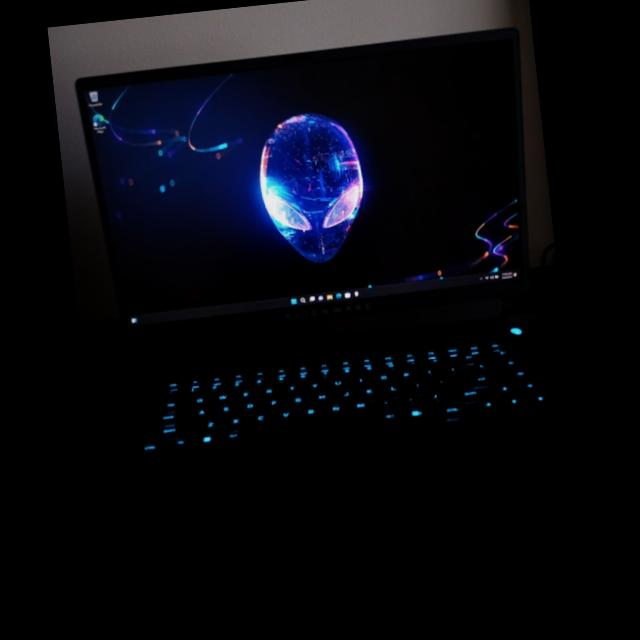laptop: (75, 28, 582, 576)
